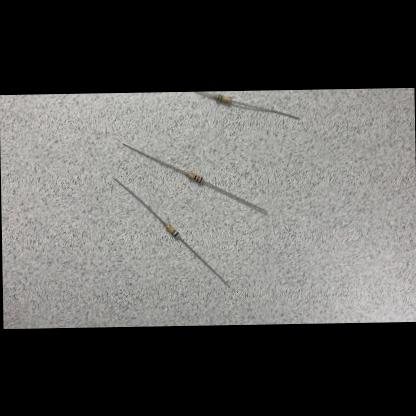resistor: (165, 223, 178, 238), (186, 172, 202, 182), (214, 94, 230, 103)
wire: (112, 176, 164, 226), (178, 236, 228, 288), (121, 141, 185, 176), (203, 180, 267, 214), (231, 98, 298, 120), (196, 91, 212, 97)
